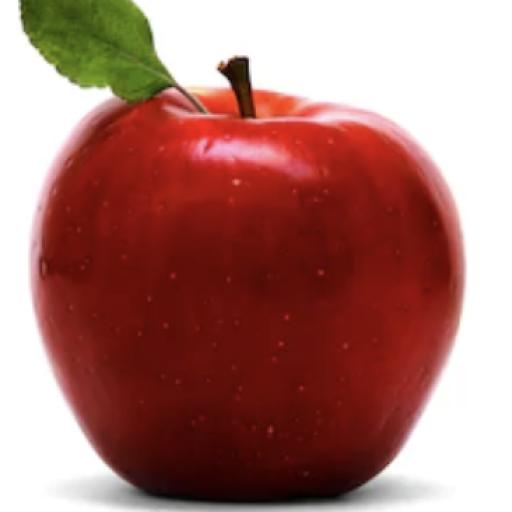apple: (31, 89, 464, 500)
